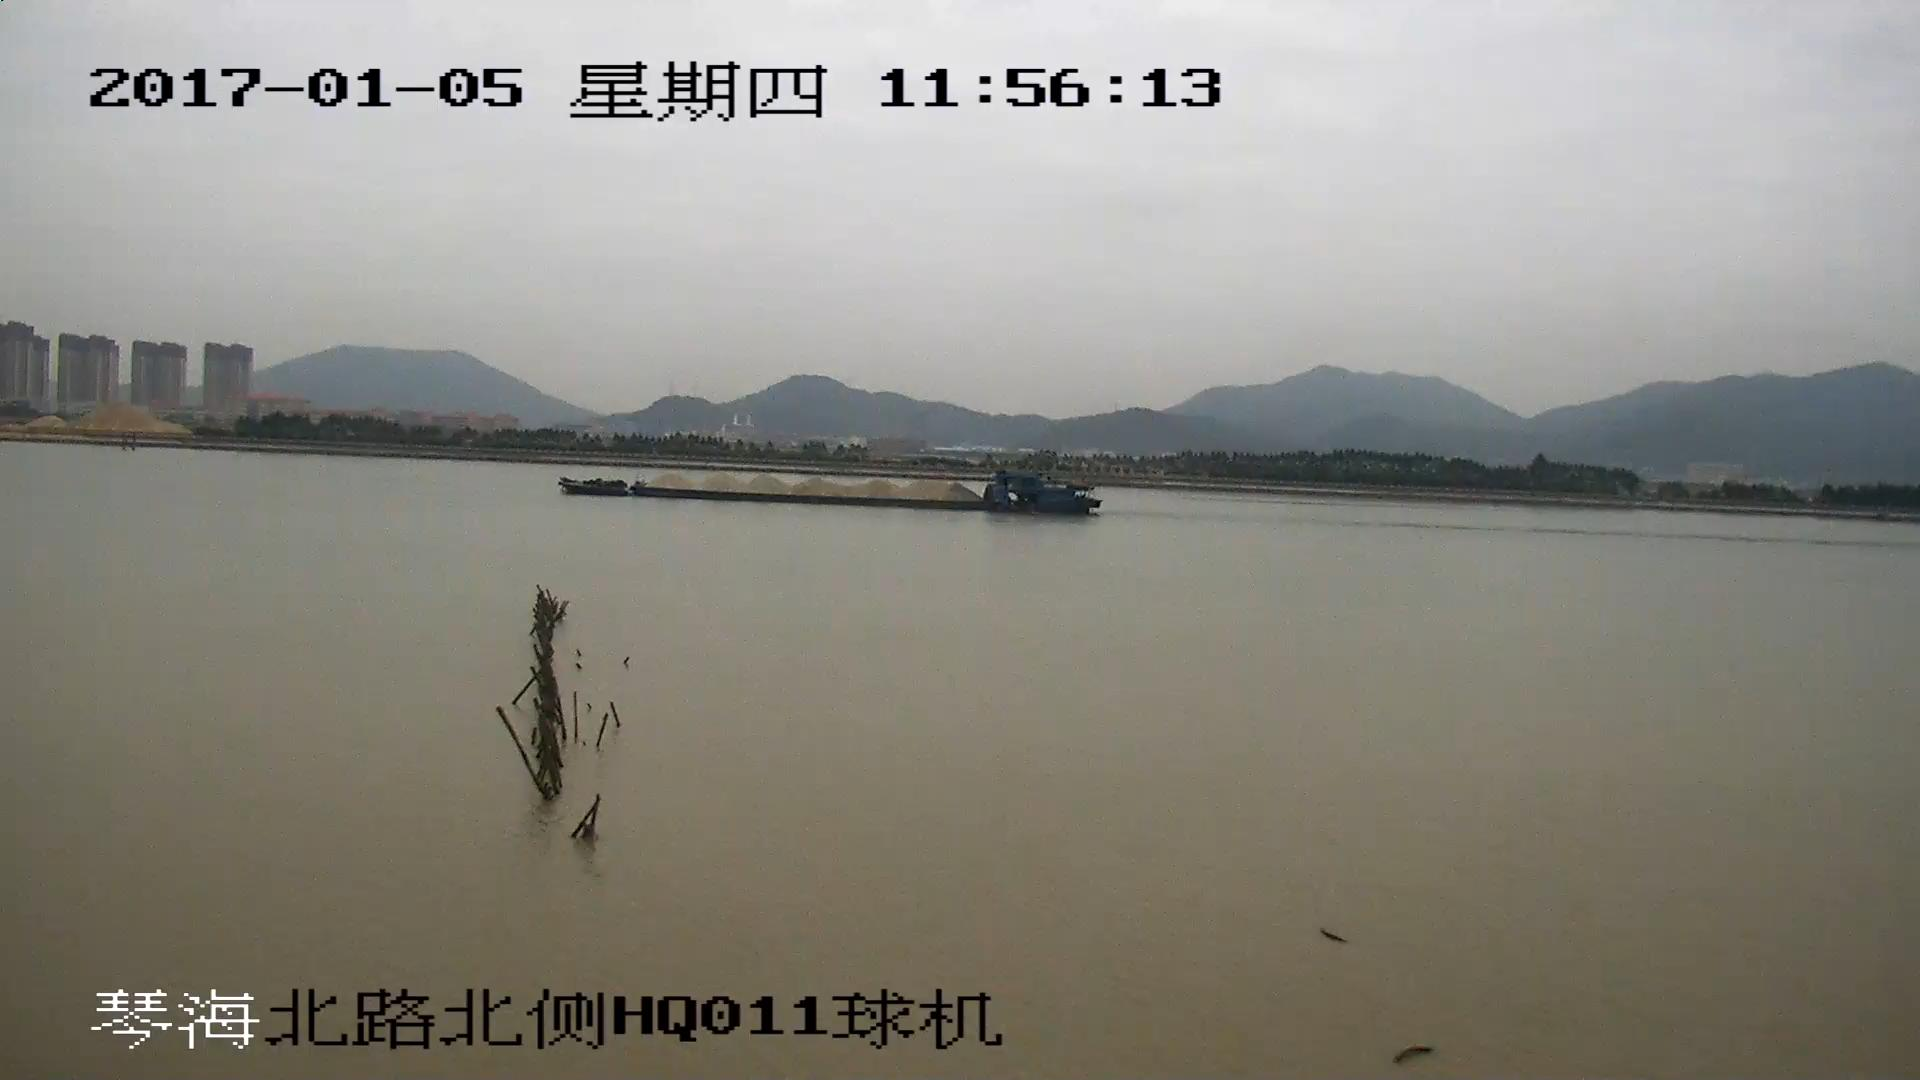ore carrier: (558, 470, 1098, 522)
